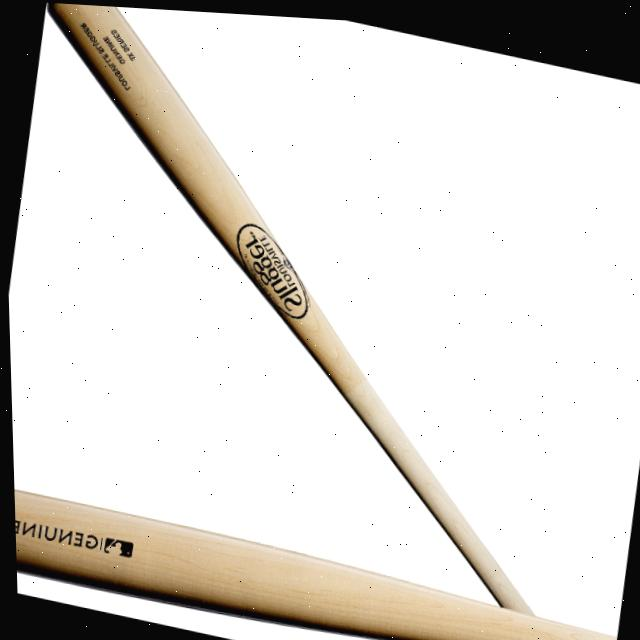baseball bat: (11, 476, 614, 640)
